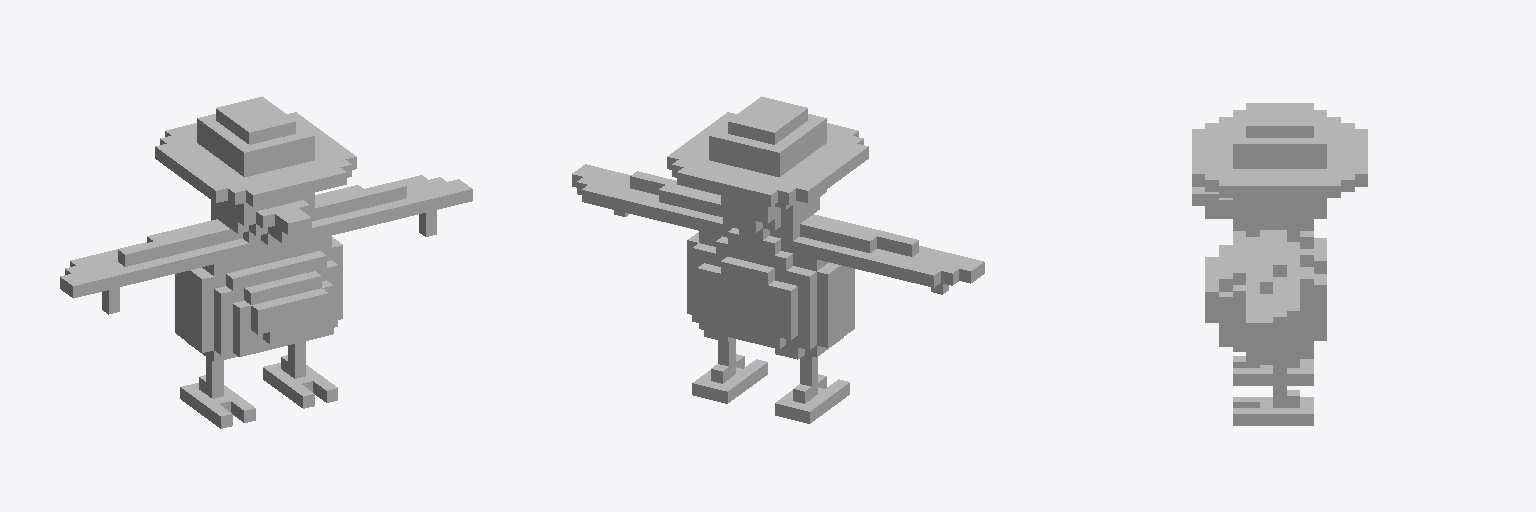
Rendered from PolloYon.obj.
3 renders of one model, left to right at view 1: azimuth 30°, elevation 25°; view 2: azimuth 150°, elevation 25°; view 3: azimuth 270°, elevation 25°, orthographic.
Parts seen in each view (by area): view 1: object 1; view 2: object 1; view 3: object 1.
Part boxes in pixels (left/top/right/bottom): object 1: left=60, top=96, right=472, bottom=428; object 1: left=572, top=96, right=984, bottom=423; object 1: left=1192, top=103, right=1367, bottom=425.
Bounding box in the file's own units: 3.4 × 2.3 × 1.3.